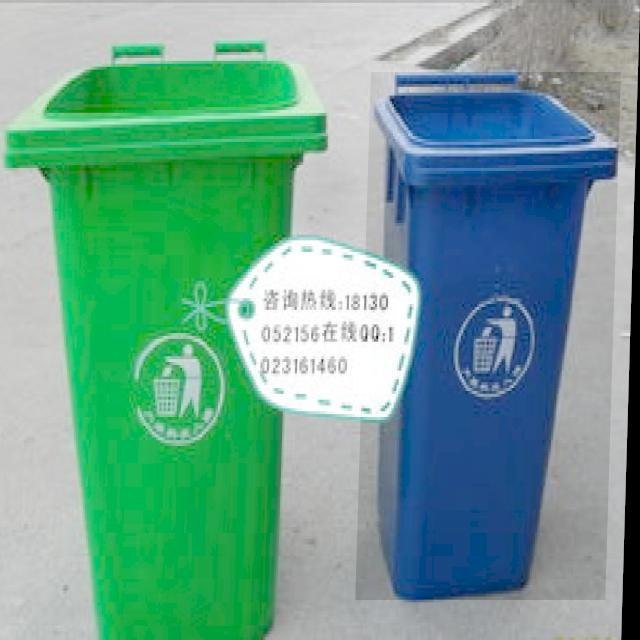garbage_bin: (0, 35, 329, 637), (359, 72, 621, 600)
